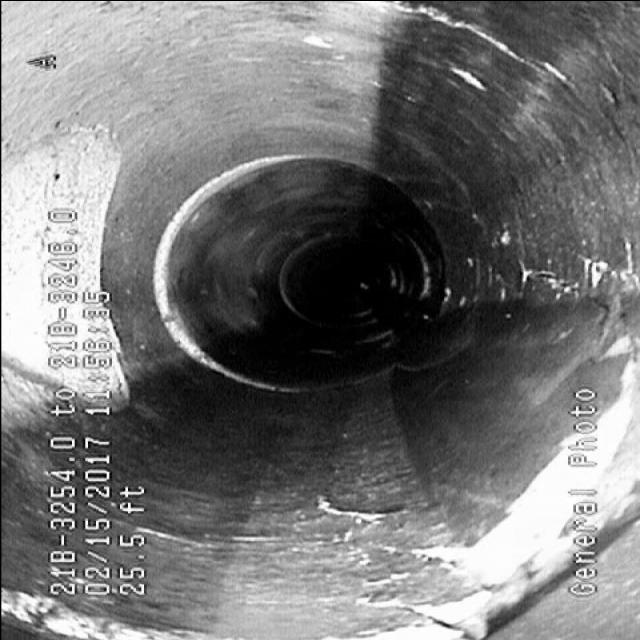Crack: (298, 473, 420, 606)
